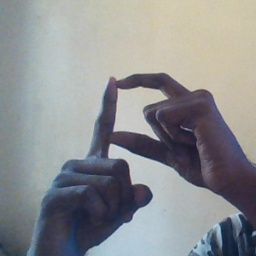D: (69, 70, 212, 190)
